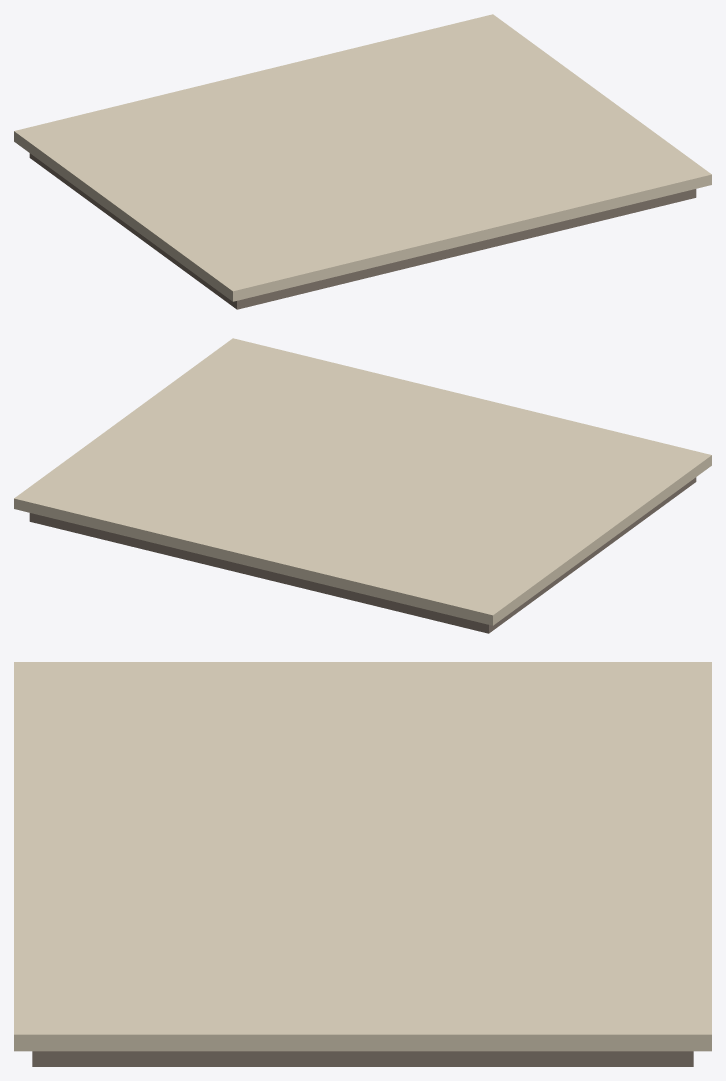
File: mdl-jewelry-tray.67115f7d.glb
3 renders of one model, top to bottom at view 1: azimuth 30°, elevation 25°; view 2: azimuth 150°, elevation 25°; view 3: azimuth 270°, elevation 25°, orthographic. The views are drawn at different scales.
Parts seen in each view (by area): view 1: jewelry-tray; view 2: jewelry-tray; view 3: jewelry-tray.
Boxes of the visible parts, box(x1,y1,x2,y2) form: jewelry-tray: box(14, 14, 711, 309); jewelry-tray: box(14, 338, 711, 633); jewelry-tray: box(14, 662, 711, 1066).
Size of the model in its own units: 0.48 by 0.072 by 0.38.
